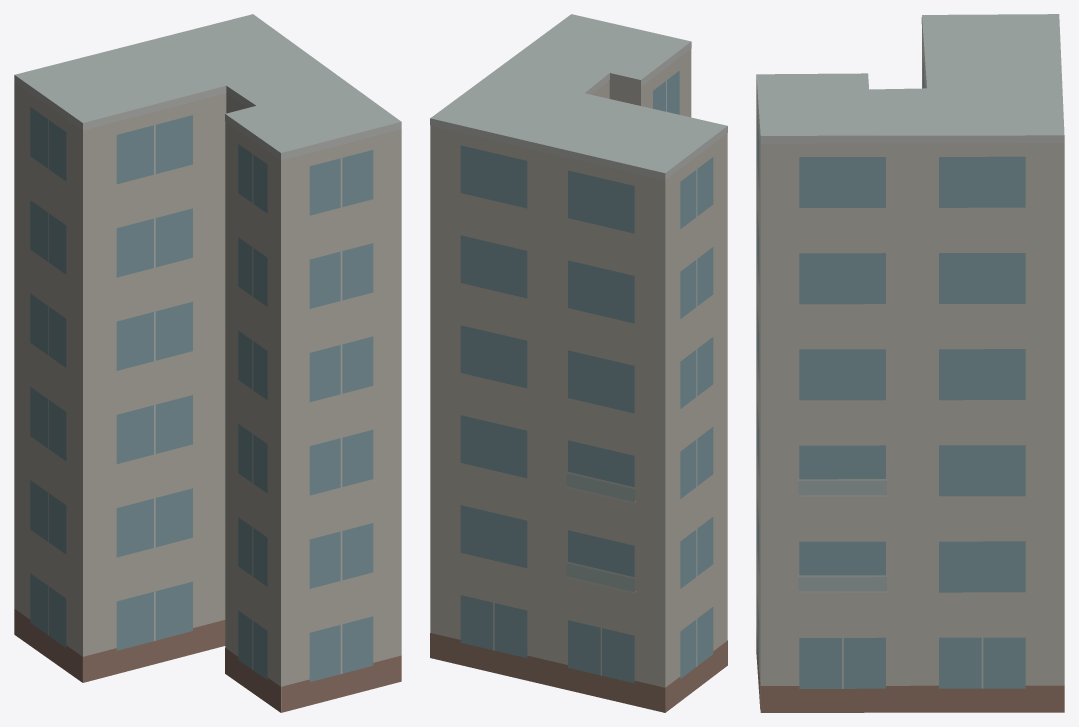
Rendered from survey-upis-32604554.glb.
3 renders of one model, left to right at view 1: azimuth 30°, elevation 25°; view 2: azimuth 150°, elevation 25°; view 3: azimuth 270°, elevation 25°, orthographic. The views are drawn at different scales.
Visible parts, largest first — view 1: survey-upis-32604554.tmp; view 2: survey-upis-32604554.tmp; view 3: survey-upis-32604554.tmp.
Part boxes in pixels (bbox=[...]): survey-upis-32604554.tmp: bbox=[14, 14, 401, 712]; survey-upis-32604554.tmp: bbox=[430, 14, 727, 712]; survey-upis-32604554.tmp: bbox=[756, 14, 1064, 712].
Bounding box in the file's own units: 8.33 × 18.3 × 8.87.
